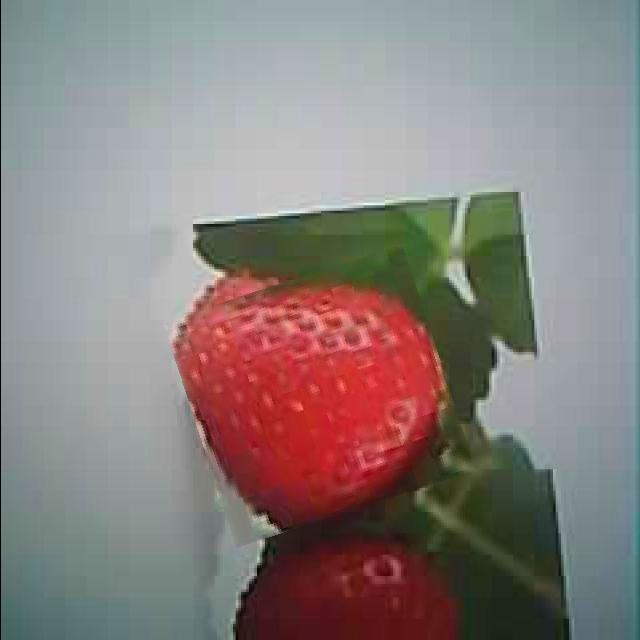strawberry: (177, 261, 459, 532)
